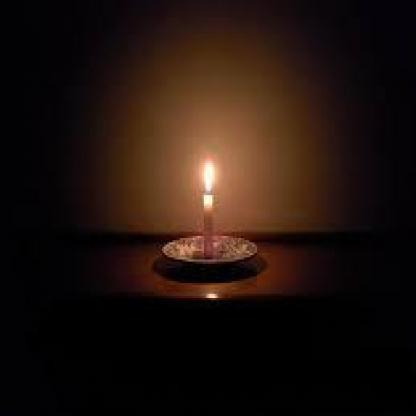fire: (197, 152, 221, 206)
